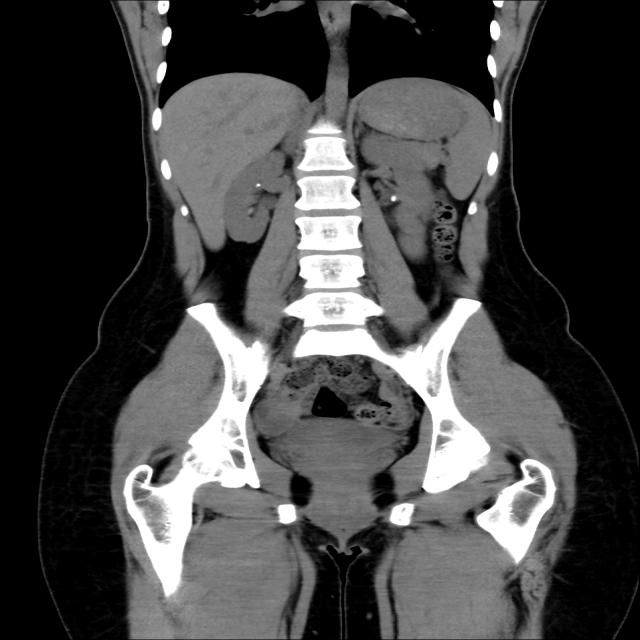kidneystone: (390, 195, 398, 202)
